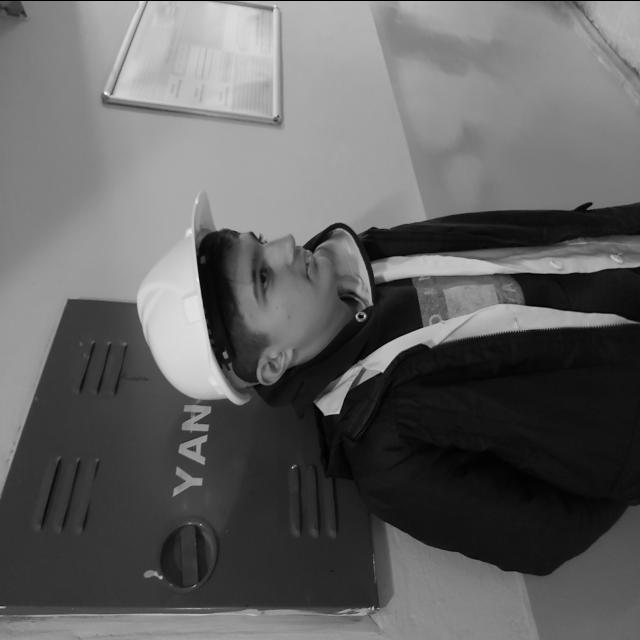safety_helmet: (138, 189, 256, 405)
